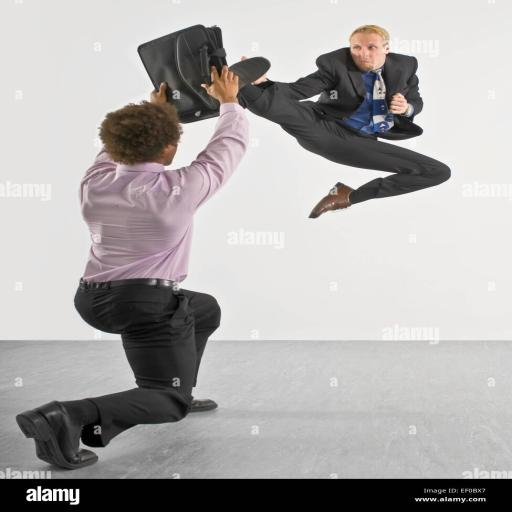fight: (32, 0, 511, 448)
